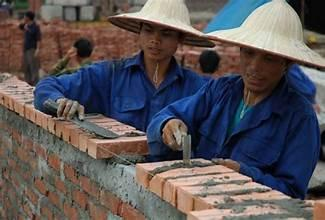Helmet: (205, 4, 325, 66), (118, 1, 203, 39)
Person: (38, 0, 204, 138), (205, 0, 324, 189)
bare-arms: (55, 94, 86, 125), (161, 118, 188, 151)
